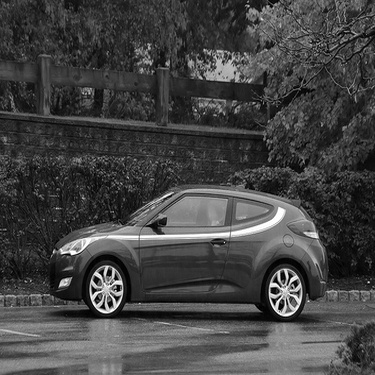car: (44, 179, 337, 315)
